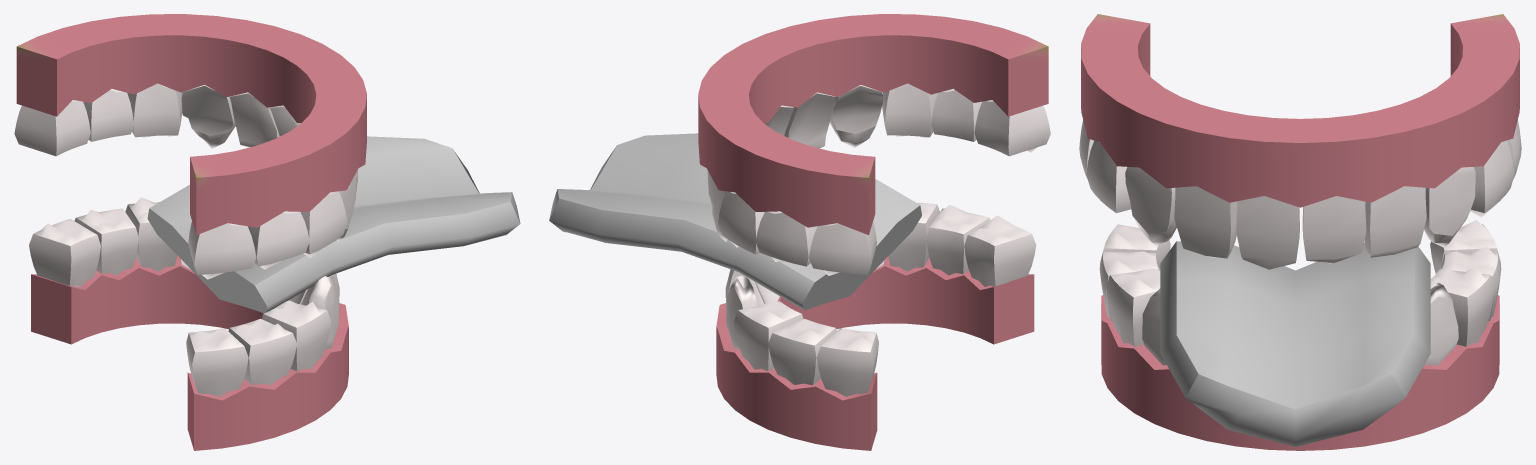
The model's file is ING_TeethandTongue.fbx.
3 renders of one model, left to right at view 1: azimuth 30°, elevation 25°; view 2: azimuth 150°, elevation 25°; view 3: azimuth 270°, elevation 25°, orthographic. The views are drawn at different scales.
Parts seen in each view (by area): view 1: Teeth, ING_Tongue; view 2: Teeth, ING_Tongue; view 3: Teeth, ING_Tongue.
Part boxes in pixels (x1=…): Teeth: x1=14, y1=14, x2=366, y2=450; ING_Tongue: x1=147, y1=136, x2=520, y2=313; Teeth: x1=698, y1=14, x2=1050, y2=450; ING_Tongue: x1=549, y1=133, x2=921, y2=310; Teeth: x1=1079, y1=14, x2=1521, y2=450; ING_Tongue: x1=1160, y1=241, x2=1430, y2=446.
Size of the model in its own units: 27.15 by 18.87 by 23.9.
